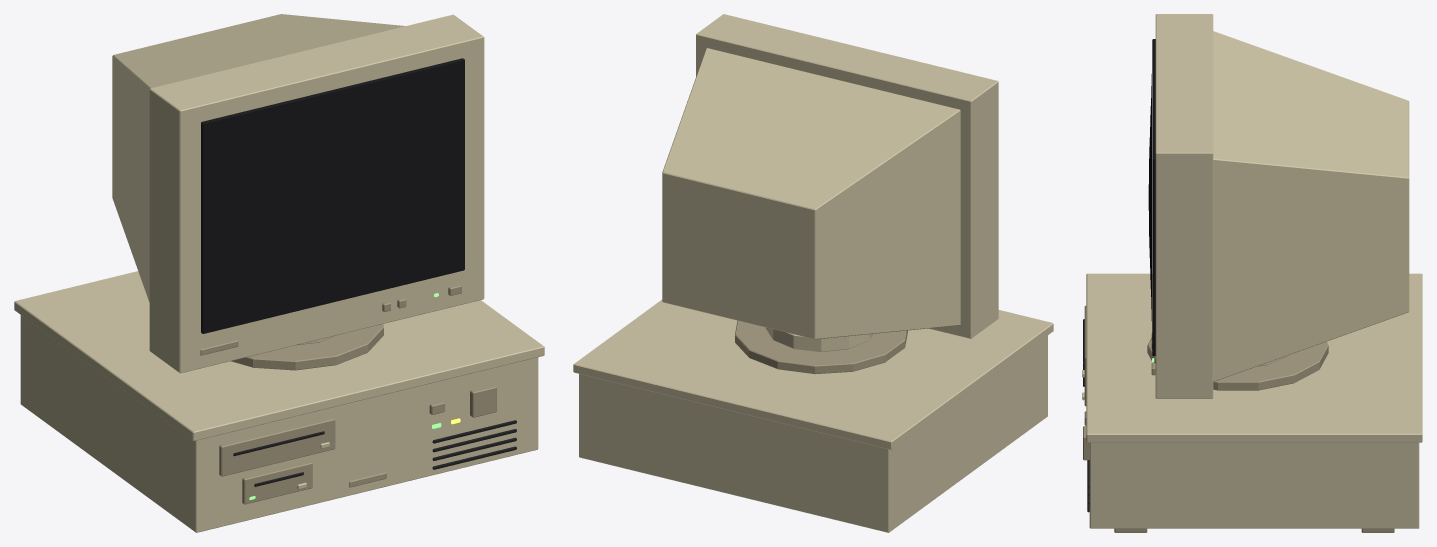
Rendered from WordlePC.fbx.
3 views of the same model, side by side, from view 1: azimuth 30°, elevation 25°; view 2: azimuth 150°, elevation 25°; view 3: azimuth 270°, elevation 25° (orthographic). The views are drawn at different scales.
Visible parts, largest first — view 1: Case_Body; view 2: Case_Body; view 3: Case_Body.
Boxes of the visible parts, bbox=[...] form: Case_Body: bbox=[14, 14, 544, 532]; Case_Body: bbox=[573, 14, 1053, 532]; Case_Body: bbox=[1082, 14, 1422, 532].
Size of the model in its own units: 46.2 by 50.7 by 41.3.
